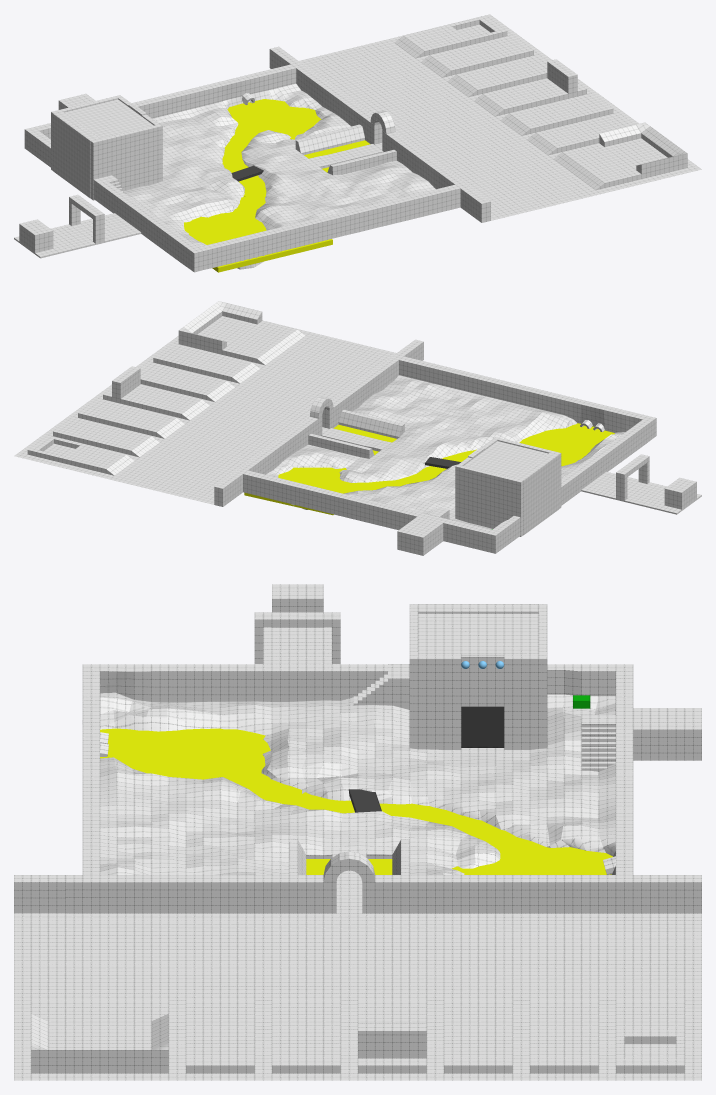
The model's file is ExampleStage.fbx.
3 renders of one model, top to bottom at view 1: azimuth 30°, elevation 25°; view 2: azimuth 150°, elevation 25°; view 3: azimuth 270°, elevation 25°, orthographic. The views are drawn at different scales.
Parts seen in each view (by area): view 1: Level, Block 1x1y1z.005, Cube.012, Block 1x1y1z.001, Cube.014, Block 1x1y1z.006, Cube.013, Block 1x1y1z; view 2: Level, Block 1x1y1z, Block 1x1y1z.001, Cube.012, Block 1x1y1z.006, Cube.014, Cube.013, Block 1x1y1z.005; view 3: Level, Cube.012, Block 1x1y1z.006, Block 1x1y1z.002, Cube.014, Block 1x1y1z.003, Cube.013, Block 1x1y1z.004, Stairs.001, Cube, Stairs, Block 1x1y1z.005 (+3 smaller).
Part boxes in pixels (<box>): Level: <box>14,14,701,272</box>; Block 1x1y1z.005: <box>90,124,162,200</box>; Cube.012: <box>184,196,332,272</box>; Block 1x1y1z.001: <box>53,111,99,198</box>; Cube.014: <box>227,99,321,139</box>; Block 1x1y1z.006: <box>64,99,153,138</box>; Cube.013: <box>222,129,303,196</box>; Block 1x1y1z: <box>51,95,122,170</box>; Level: <box>14,301,701,555</box>; Block 1x1y1z: <box>455,464,523,536</box>; Block 1x1y1z.001: <box>515,453,558,534</box>; Cube.012: <box>461,423,614,466</box>; Block 1x1y1z.006: <box>464,441,548,478</box>; Cube.014: <box>244,467,365,515</box>; Cube.013: <box>324,450,472,490</box>; Block 1x1y1z.005: <box>493,437,561,508</box>; Level: <box>14,584,701,1080</box>; Cube.012: <box>100,728,301,806</box>; Block 1x1y1z.006: <box>418,613,538,655</box>; Block 1x1y1z.002: <box>418,655,461,749</box>; Cube.014: <box>452,841,612,874</box>; Block 1x1y1z.003: <box>504,655,538,749</box>; Cube.013: <box>286,792,529,841</box>; Block 1x1y1z.004: <box>461,654,504,706</box>; Stairs.001: <box>581,715,615,771</box>; Cube: <box>461,706,504,747</box>; Stairs: <box>353,664,409,709</box>; Block 1x1y1z.005: <box>409,604,418,749</box>.
Size of the model in its own units: 128 by 15.32 by 80.
6 materials, 4 textured.
